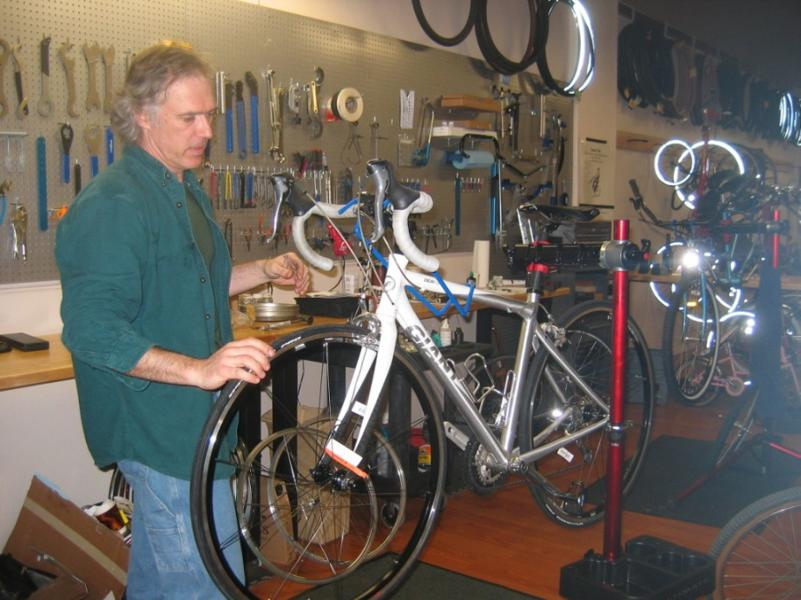person: (56, 42, 311, 600)
